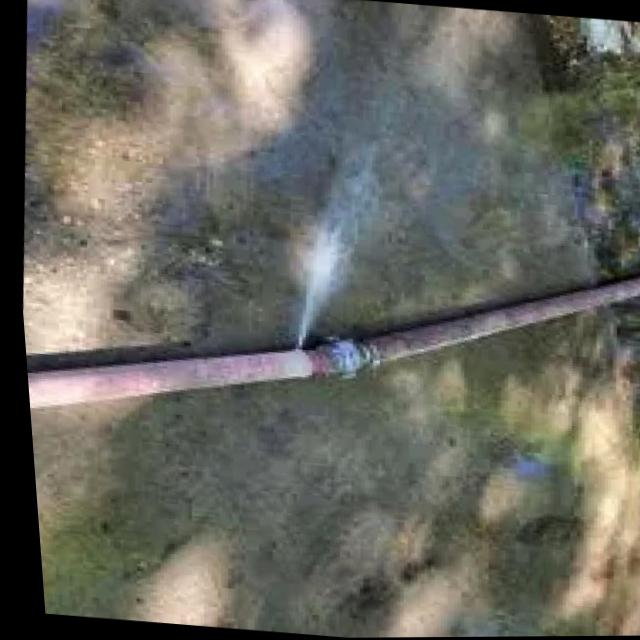leak: (298, 153, 392, 350)
